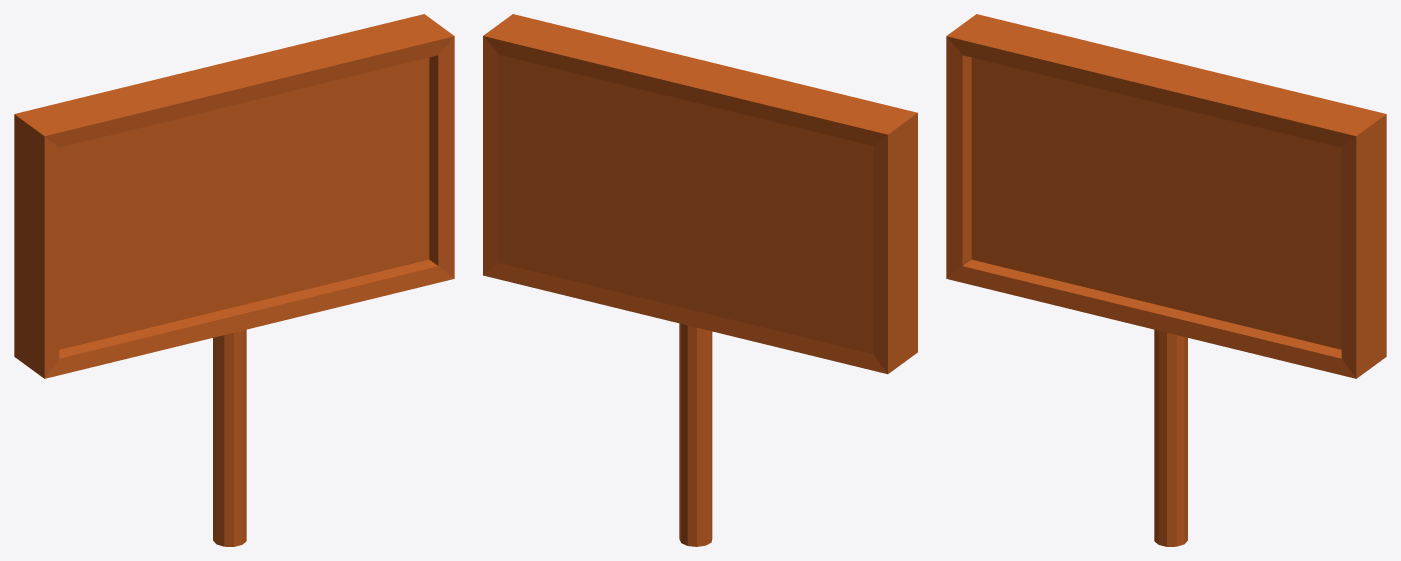
File: instructionSign.fbx
3 renders of one model, left to right at view 1: azimuth 30°, elevation 25°; view 2: azimuth 150°, elevation 25°; view 3: azimuth 330°, elevation 25°, orthographic.
Parts seen in each view (by area): view 1: Cube, Cylinder; view 2: Cube, Cylinder; view 3: Cube, Cylinder.
Part boxes in pixels (x1=…): Cube: x1=14, y1=14, x2=454, y2=378; Cylinder: x1=213, y1=329, x2=246, y2=546; Cube: x1=483, y1=14, x2=917, y2=374; Cylinder: x1=679, y1=323, x2=712, y2=546; Cube: x1=946, y1=14, x2=1386, y2=378; Cylinder: x1=1154, y1=329, x2=1187, y2=546.
Size of the model in its own units: 851 by 928 by 109.
